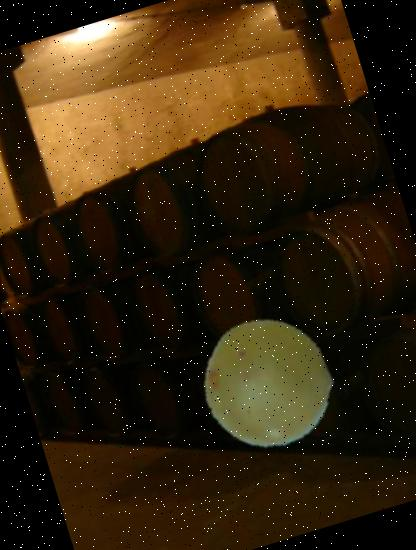Grape: (184, 300, 351, 467)
